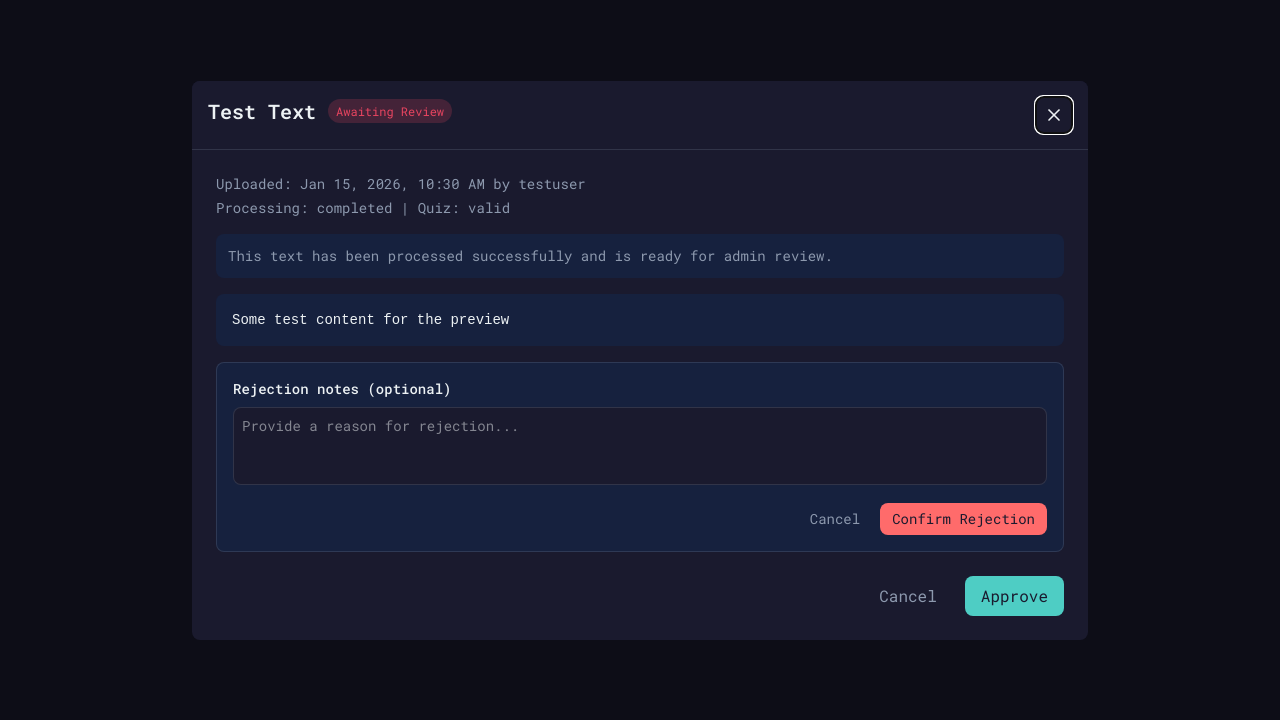
TextPreviewModal › should hide reject form on cancel
Reject form Cancel (index 0), footer Cancel (index 1)
Click the 1st button "Cancel" at (835, 518), box [798, 502, 872, 534]
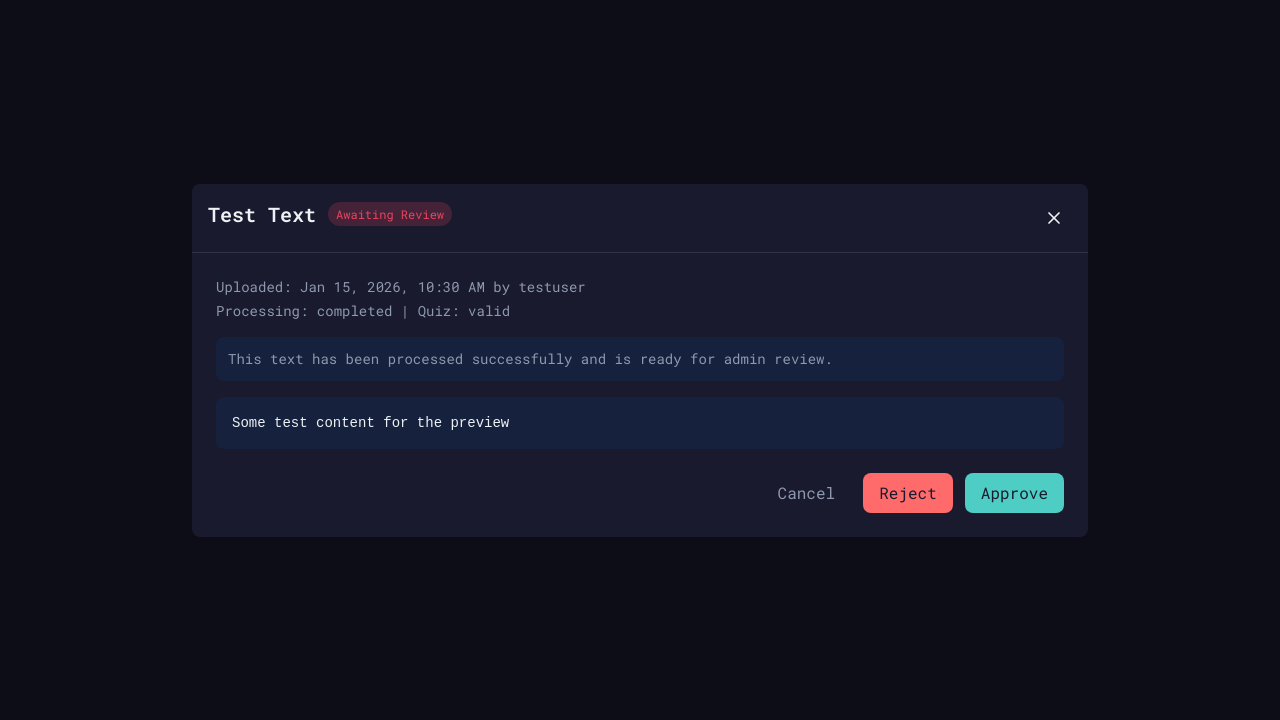
Result: the button "Confirm Rejection" is gone
